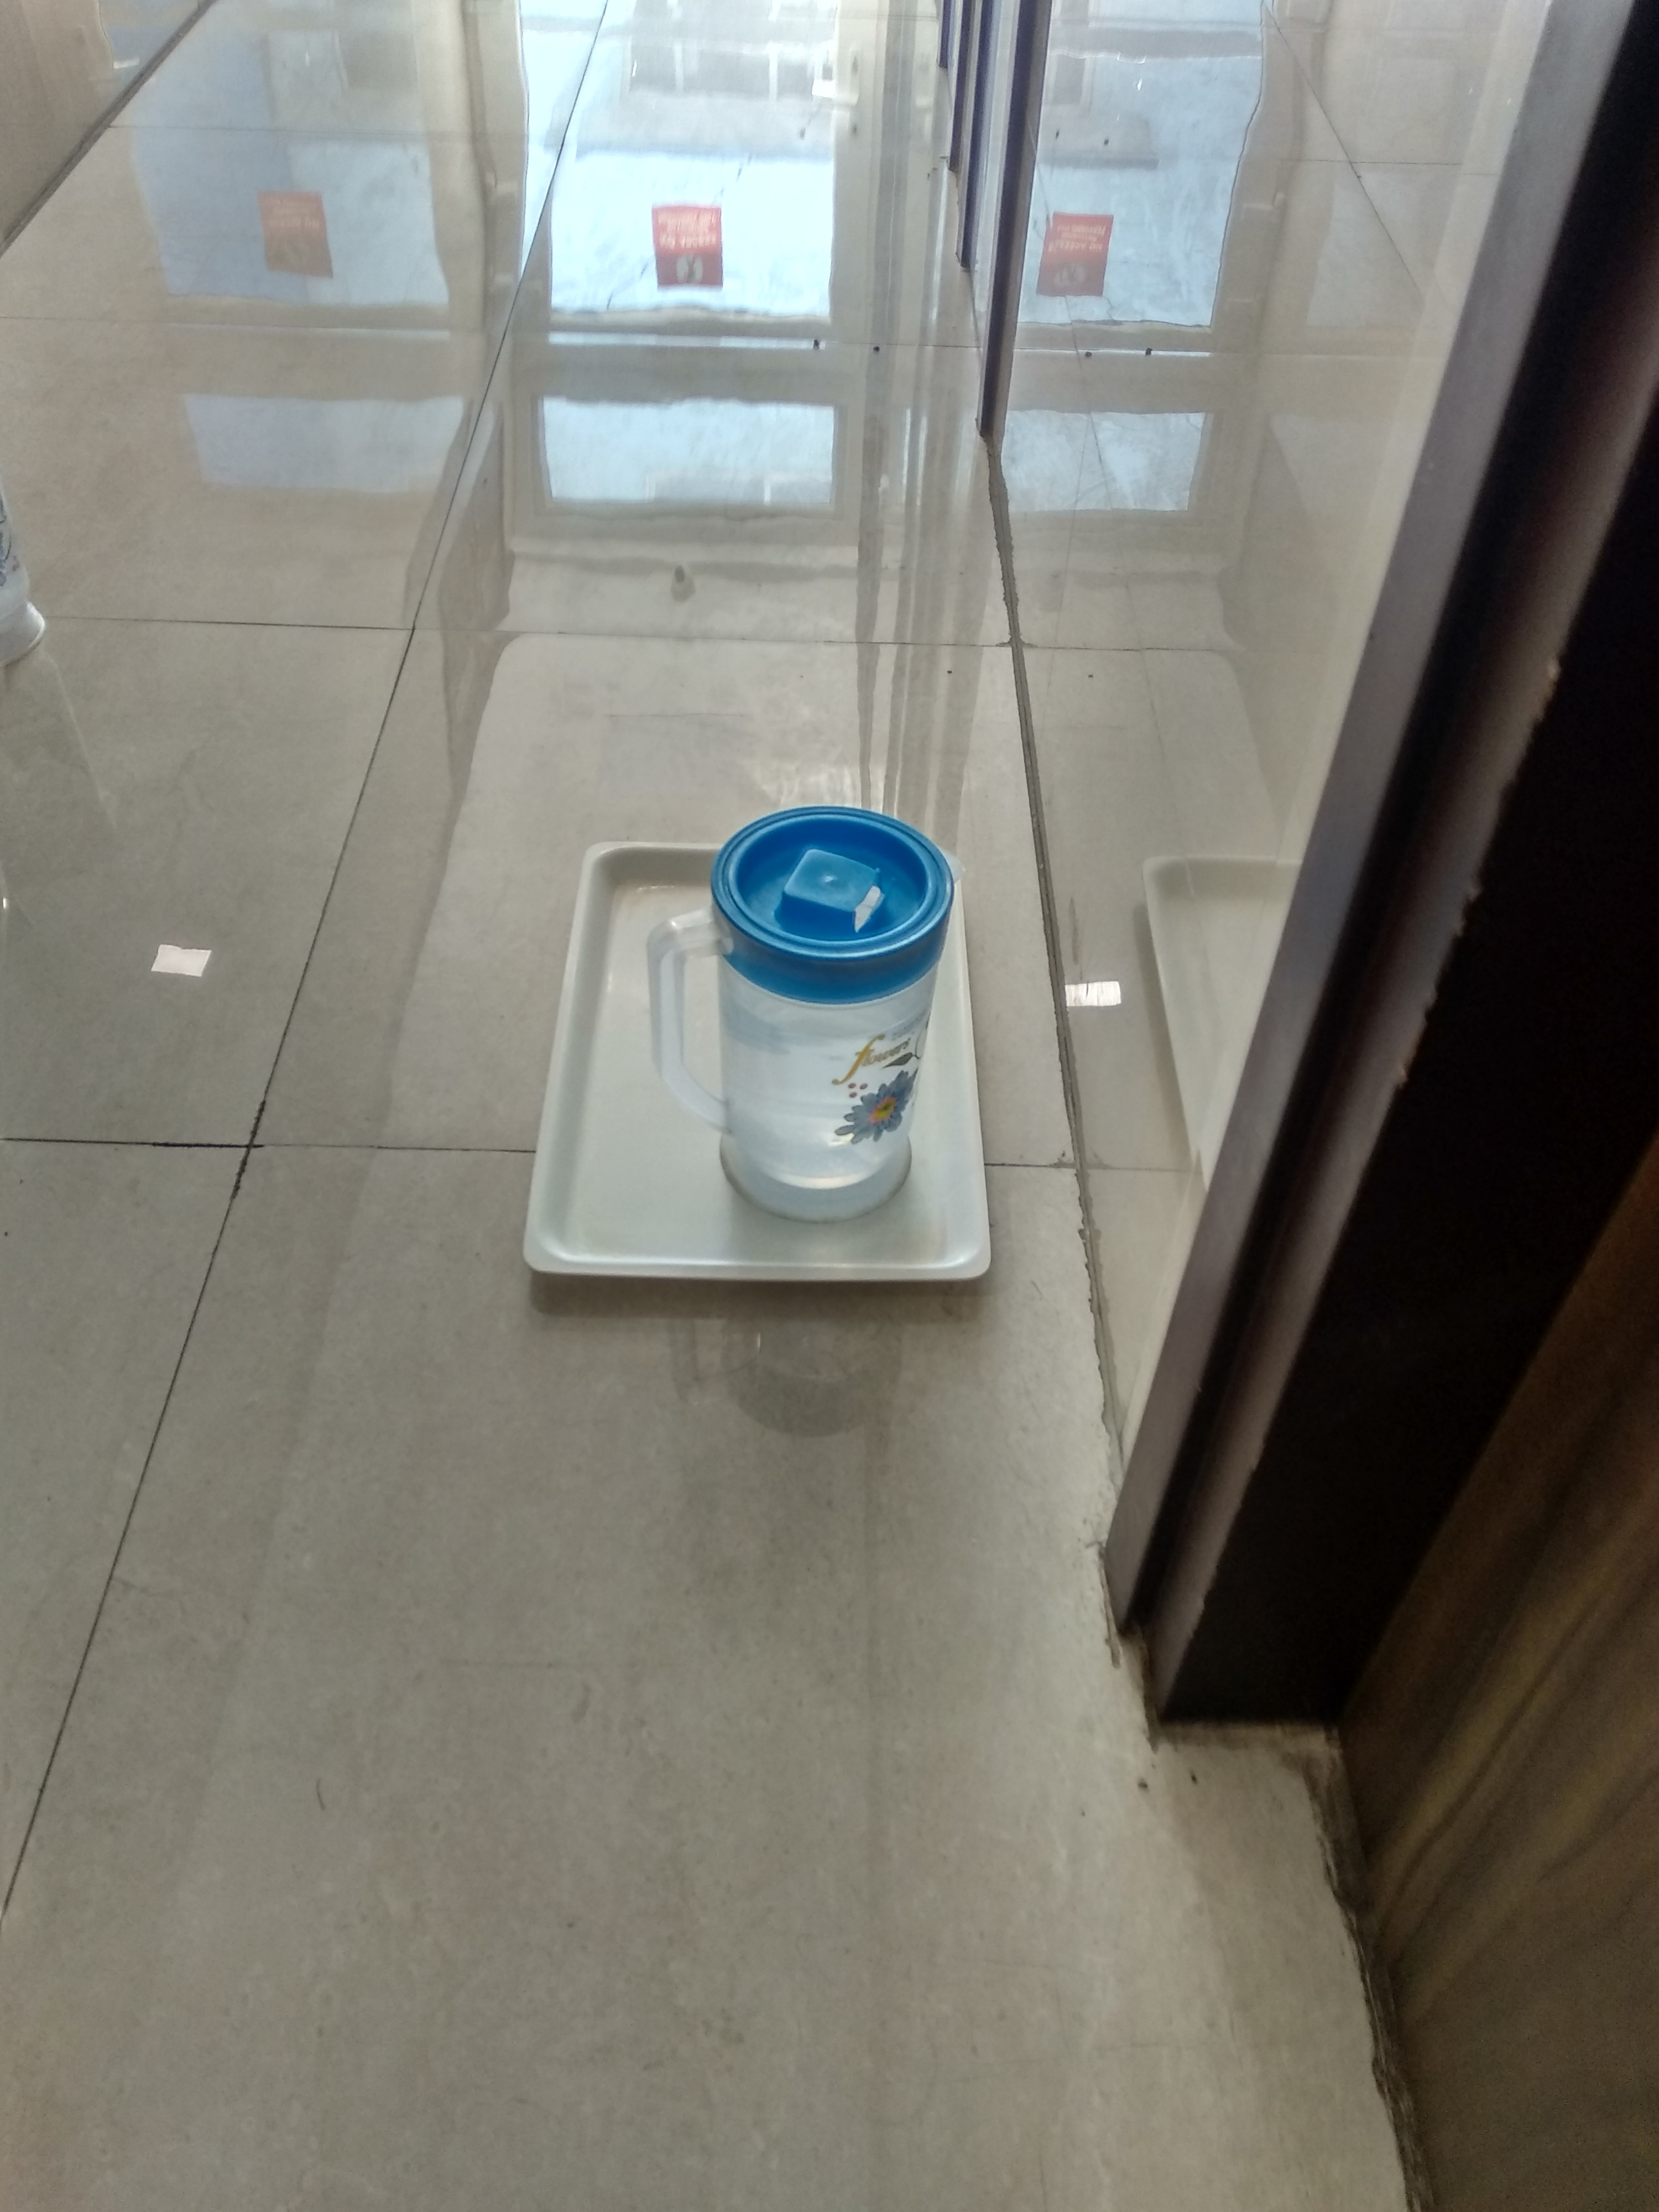JUG: (640, 808, 974, 1244)
